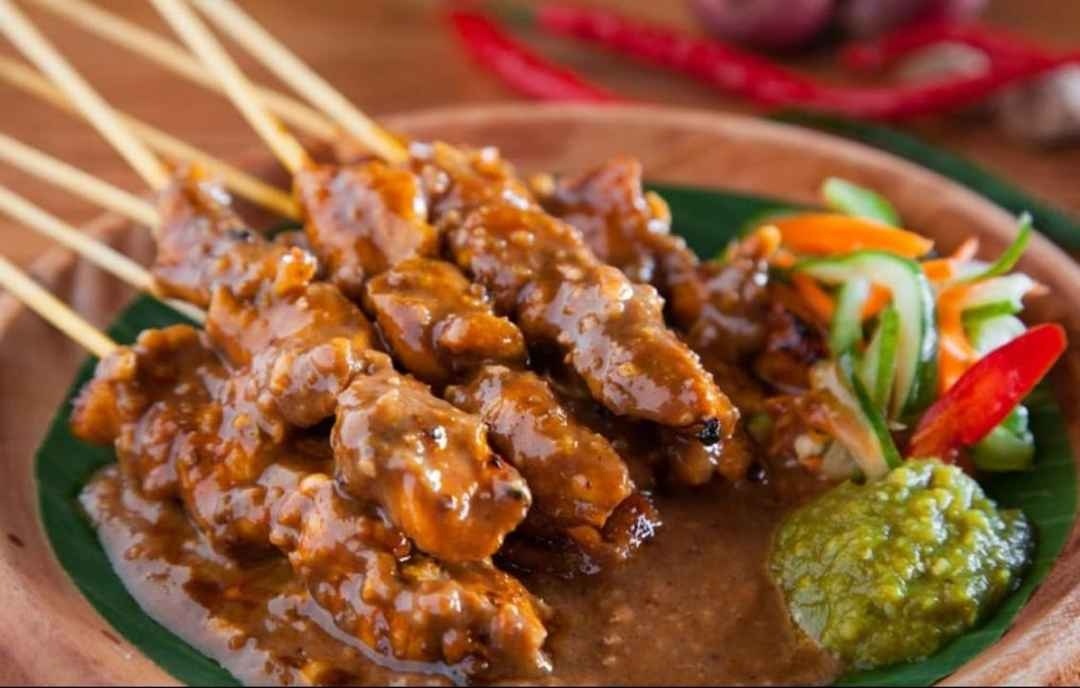sate_madura: (1, 1, 764, 687)
